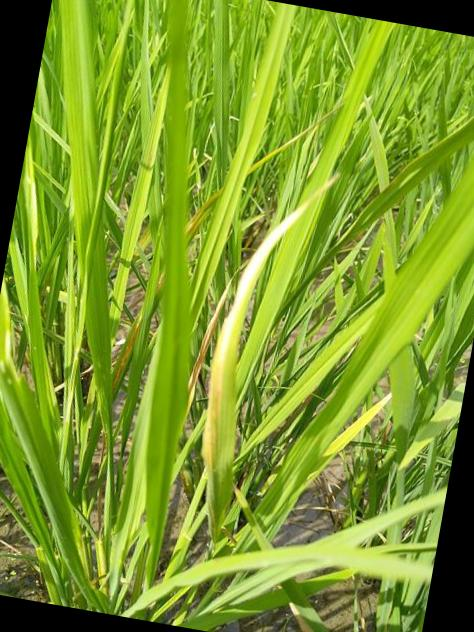Leaf Blight: (201, 173, 339, 543), (246, 110, 335, 177), (113, 312, 141, 400), (184, 187, 222, 241), (158, 272, 166, 293)
